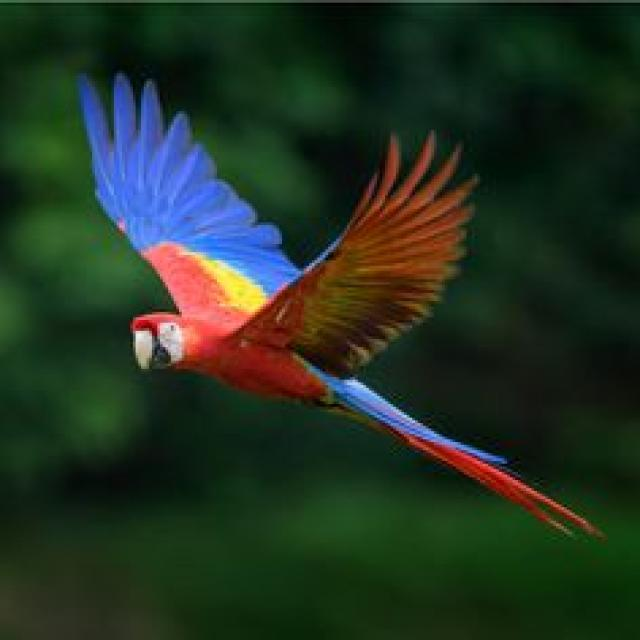Herbivorous: (76, 73, 607, 542)
